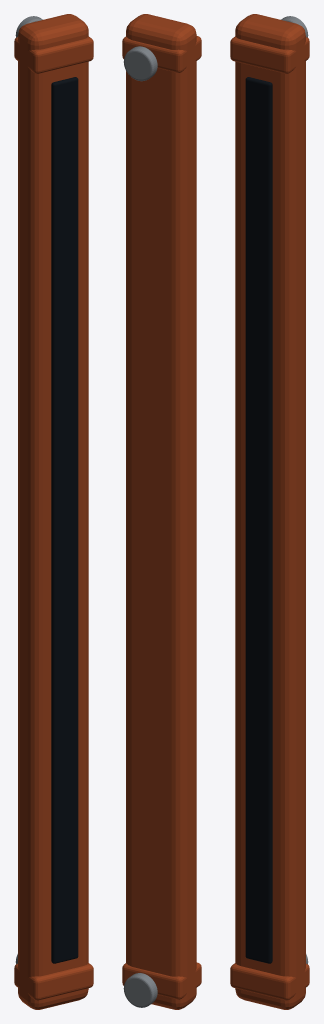
The model's file is k80-sl48f-full-height-pull.glb.
3 views of the same model, side by side, from view 1: azimuth 30°, elevation 25°; view 2: azimuth 150°, elevation 25°; view 3: azimuth 330°, elevation 25° (orthographic).
Parts seen in each view (by area): view 1: SL48F fixed pull rail, SL48F recessed inner channel, SL48F end cap, SL48F end cap.001; view 2: SL48F fixed pull rail, SL48F end cap.001, SL48F end cap, SL48F mount.001, SL48F mount; view 3: SL48F fixed pull rail, SL48F recessed inner channel, SL48F end cap, SL48F end cap.001.
Boxes of the visible parts, x1=… form: SL48F fixed pull rail: x1=18, y1=14, x2=88, y2=1009; SL48F recessed inner channel: x1=51, y1=77, x2=78, y2=963; SL48F end cap: x1=14, y1=963, x2=93, y2=1000; SL48F end cap.001: x1=14, y1=36, x2=93, y2=73; SL48F fixed pull rail: x1=126, y1=14, x2=196, y2=1009; SL48F end cap.001: x1=122, y1=36, x2=201, y2=72; SL48F end cap: x1=122, y1=962, x2=201, y2=999; SL48F mount.001: x1=123, y1=46, x2=157, y2=81; SL48F mount: x1=123, y1=973, x2=157, y2=1007; SL48F fixed pull rail: x1=235, y1=14, x2=305, y2=1009; SL48F recessed inner channel: x1=245, y1=77, x2=272, y2=963; SL48F end cap: x1=230, y1=963, x2=309, y2=1000; SL48F end cap.001: x1=230, y1=36, x2=309, y2=73.
Bounding box in the file's own units: 0.06 × 0.94 × 0.0635.
